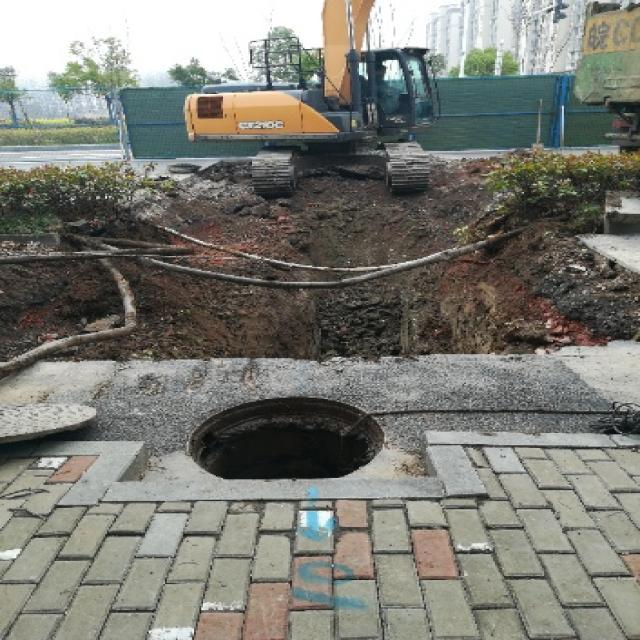Faulty: (166, 389, 412, 494)
